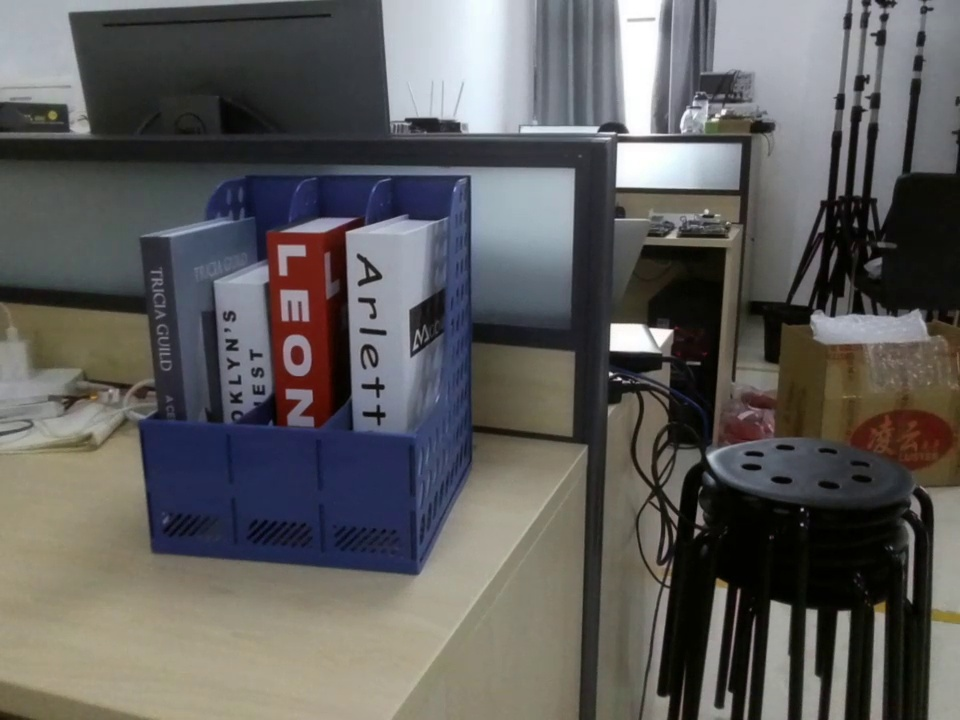files: (133, 171, 476, 574)
